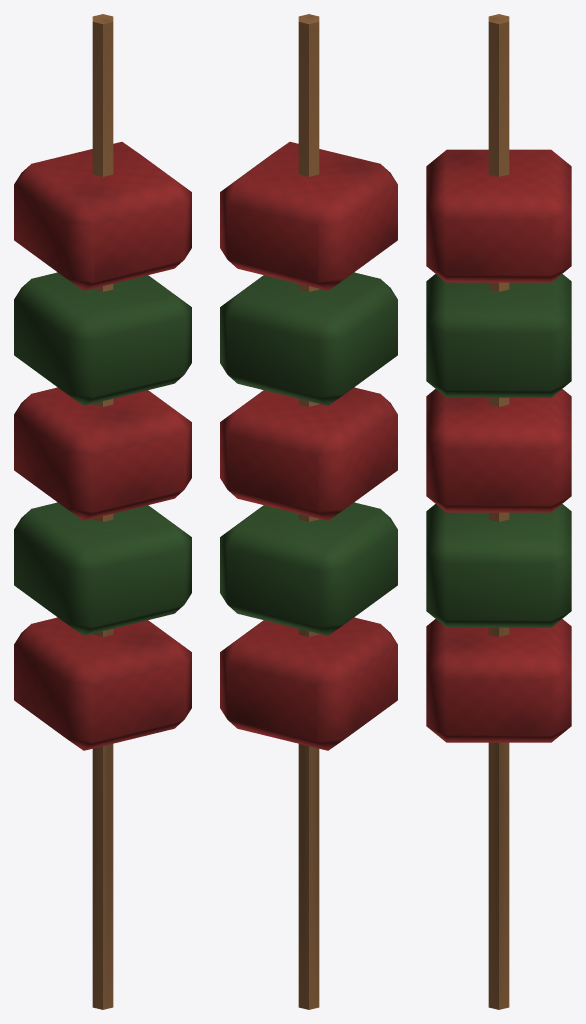
Rendered from Hold_Skewer.fbx.
The picture shows the model from 3 angles, left to right: view 1: azimuth 30°, elevation 25°; view 2: azimuth 150°, elevation 25°; view 3: azimuth 270°, elevation 25°; orthographic projection.
Visible parts, largest first — view 1: Hold_Skewer; view 2: Hold_Skewer; view 3: Hold_Skewer.
Boxes of the visible parts, x1,y1,x2,y2 form: Hold_Skewer: [14, 14, 191, 1009]; Hold_Skewer: [220, 14, 397, 1009]; Hold_Skewer: [426, 14, 571, 1009].
Size of the model in its own units: 0.04 by 0.3 by 0.04.
Materials: 1 (1 with a texture image).
